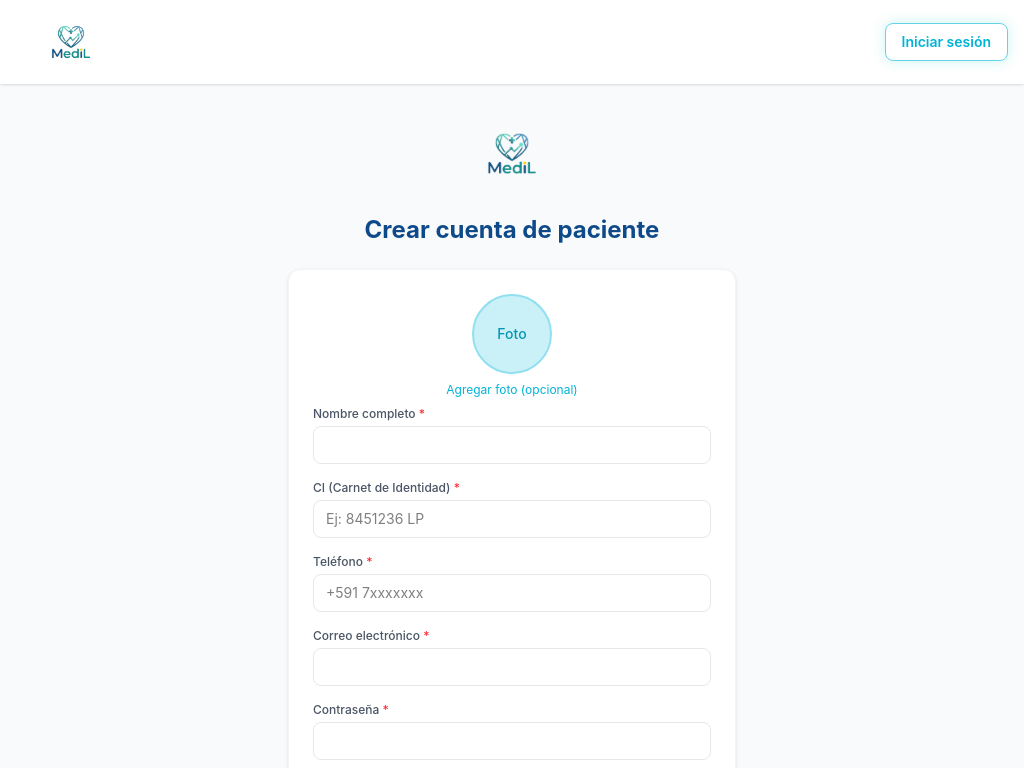
RegisterPage › muestra error cuando la contraseña es muy corta
This screenshot has width=1024, height=768.
In the field below "Nombre completo": (512, 445) [313,426,711,464], type "Ana García"
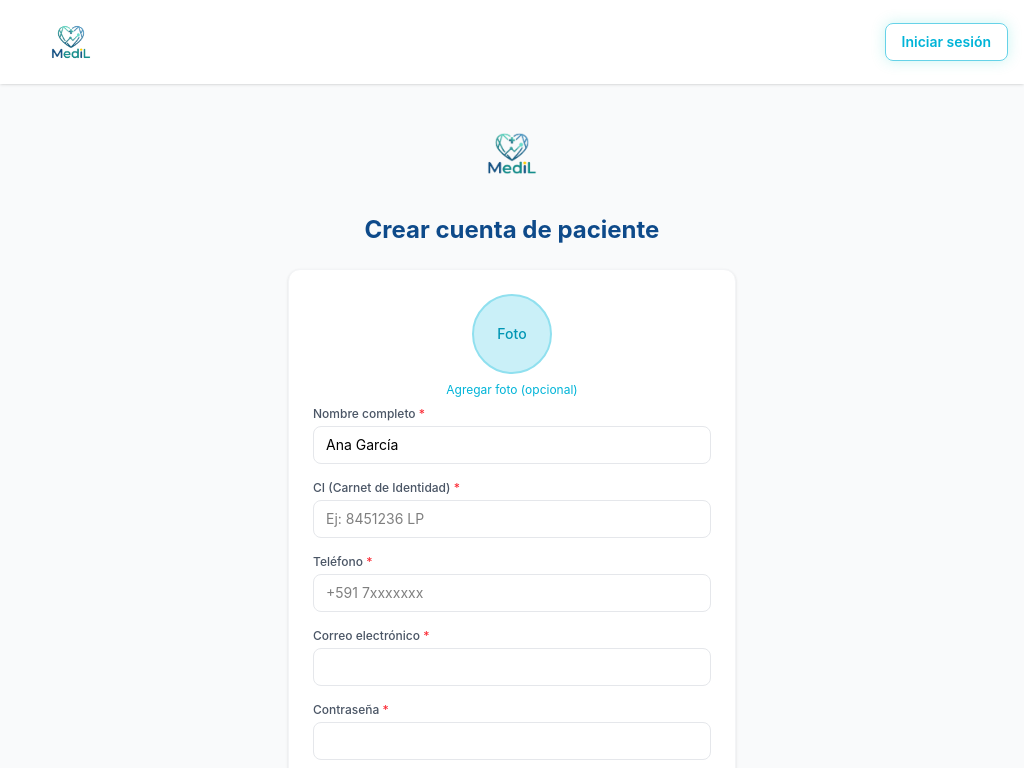
In the field with placeholder "Ej: 8451236 LP": (512, 519) [313,500,711,538], type "+591 70001234"
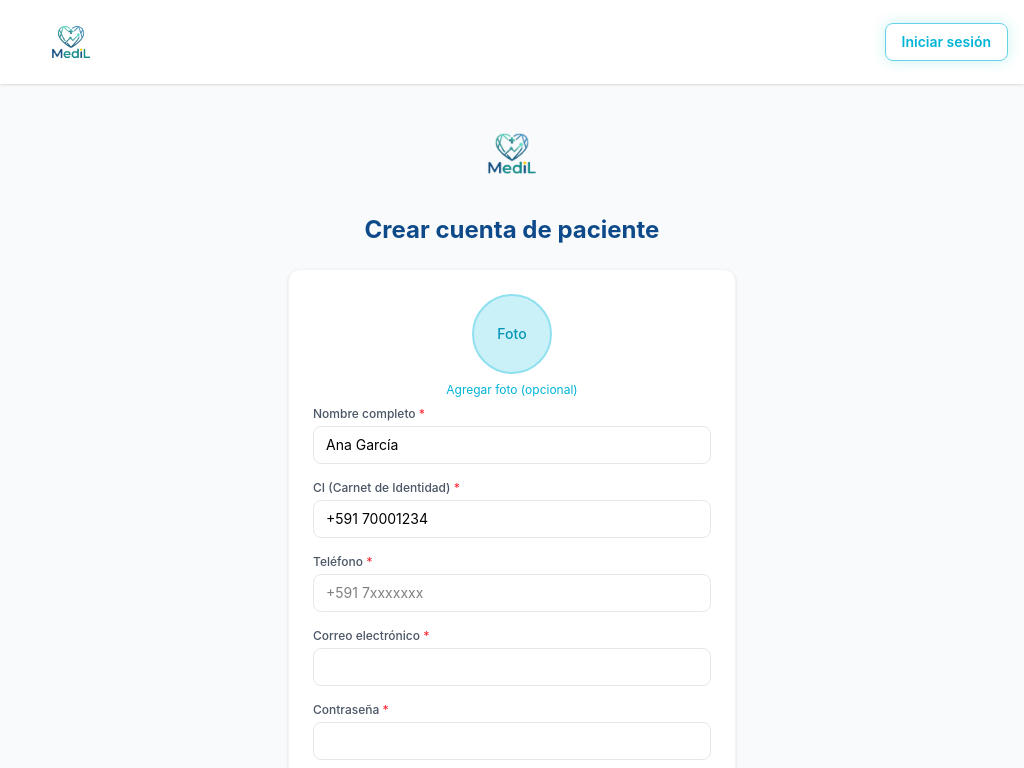
In the field with placeholder "+591 7xxxxxxx": (512, 593) [313,574,711,612], type "ana@example.com"
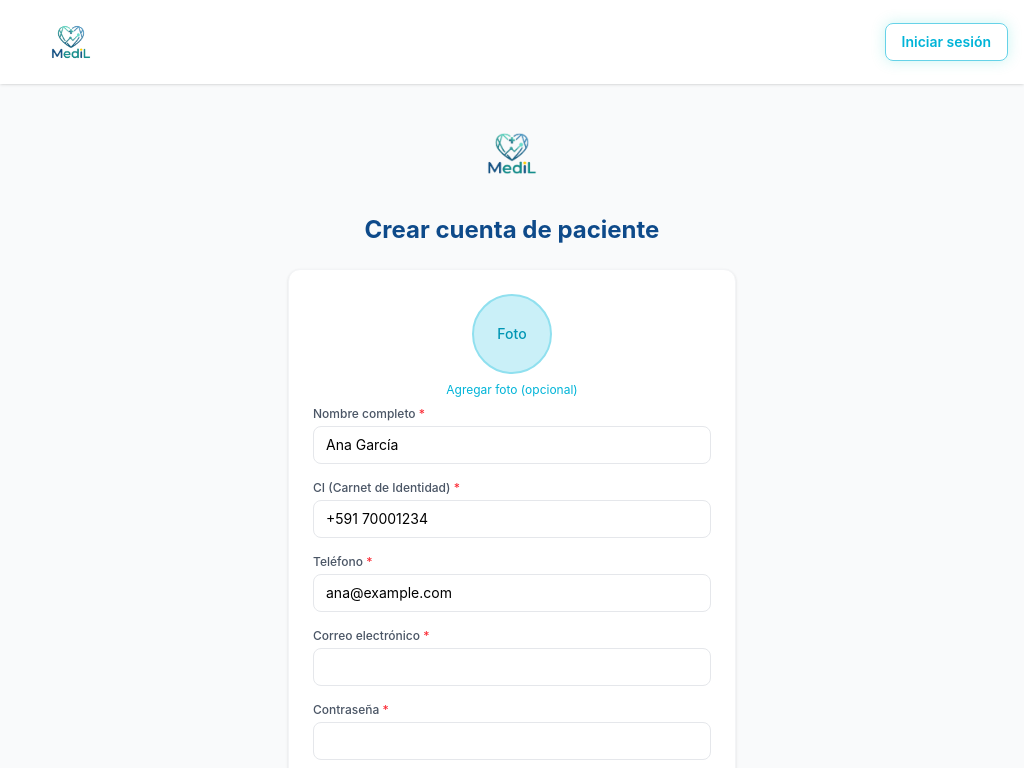
In the password field: (512, 741) [313,722,711,760], type "12"
(page scrolled)
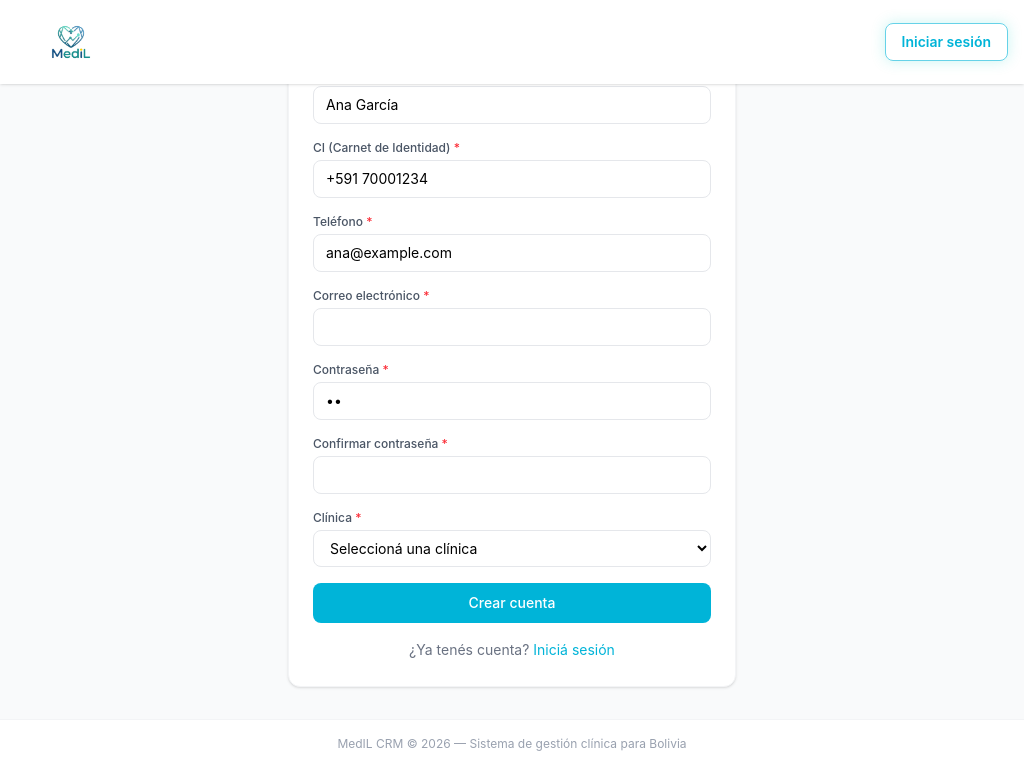
Click the button "Crear cuenta": (512, 603) [313,583,711,623]
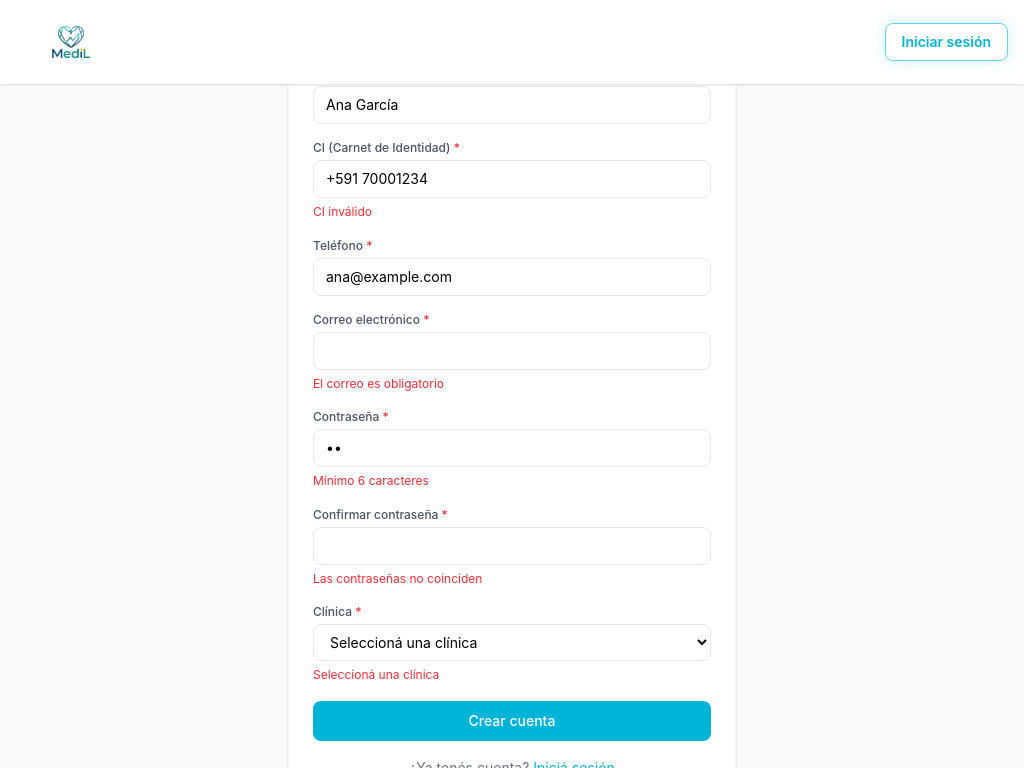
Now the text "Mínimo 6 caracteres" is shown, box [313,473,429,488]
